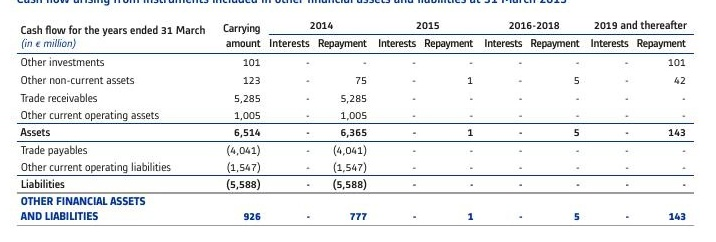table: (0, 0, 716, 242)
